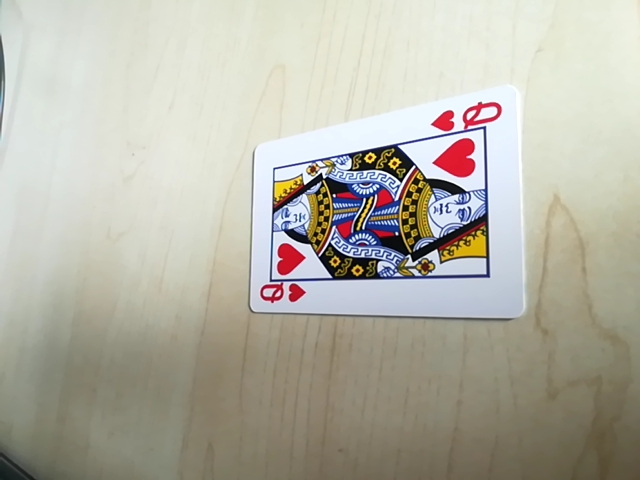hx q: (429, 97, 502, 135), (252, 281, 307, 309)
